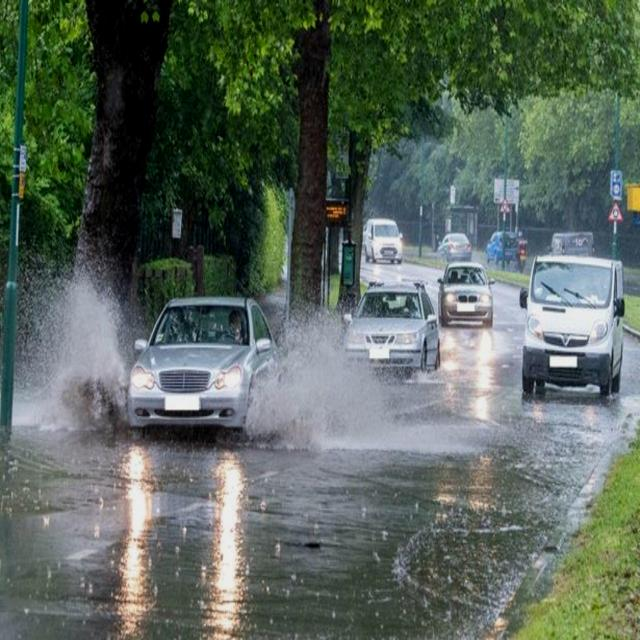Car: (124, 294, 286, 443), (343, 278, 441, 385), (435, 262, 495, 331), (484, 230, 520, 265), (437, 232, 473, 261)
Cycle: (517, 241, 527, 272)
Van: (520, 257, 625, 397), (364, 219, 404, 263), (547, 230, 596, 256)
